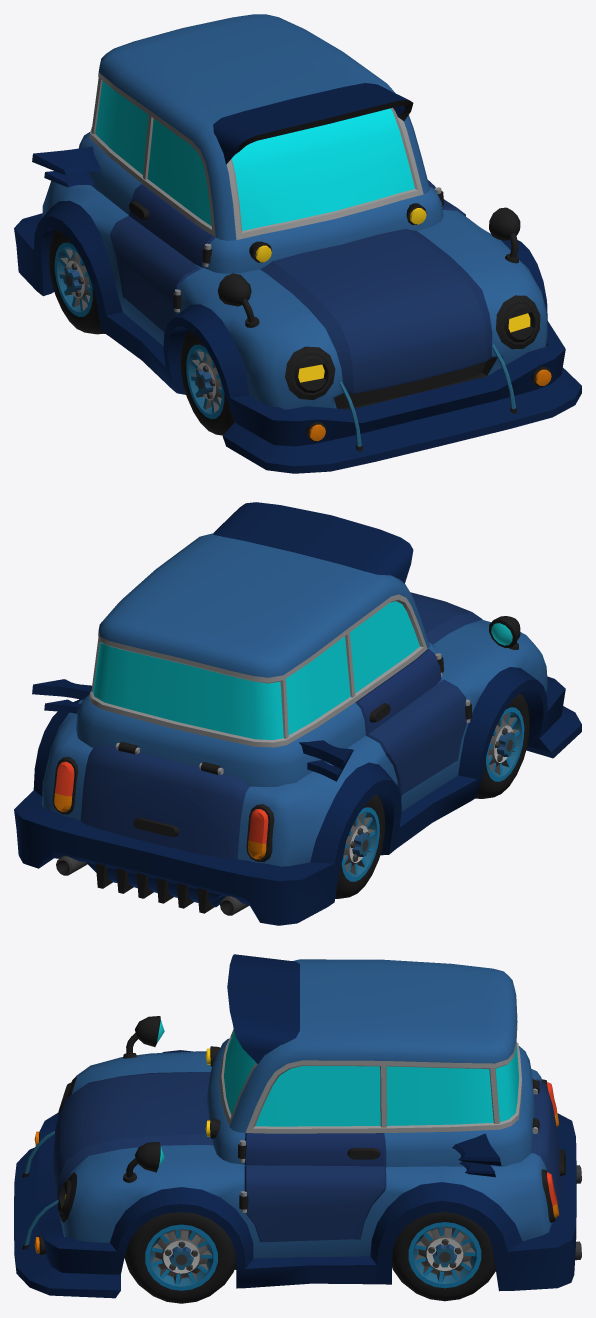
File: VEH13-B.fbx
3 views of the same model, one above another, from view 1: azimuth 30°, elevation 25°; view 2: azimuth 150°, elevation 25°; view 3: azimuth 270°, elevation 25° (orthographic). The views are drawn at different scales.
Parts seen in each view (by area): view 1: VEH13_B, V13B_Wheel_BR, V13B_Wheel_FR; view 2: VEH13_B, V13B_Wheel_FR, V13B_Wheel_BR; view 3: VEH13_B, V13B_Wheel_FL, V13B_Wheel_BL.
Part boxes in pixels (x1=…): VEH13_B: x1=14, y1=14, x2=581, y2=473; V13B_Wheel_BR: x1=49, y1=230, x2=104, y2=334; V13B_Wheel_FR: x1=180, y1=330, x2=234, y2=435; VEH13_B: x1=14, y1=502, x2=581, y2=925; V13B_Wheel_FR: x1=475, y1=693, x2=529, y2=798; V13B_Wheel_BR: x1=335, y1=794, x2=384, y2=898; VEH13_B: x1=14, y1=954, x2=581, y2=1298; V13B_Wheel_FL: x1=124, y1=1212, x2=236, y2=1303; V13B_Wheel_BL: x1=392, y1=1211, x2=495, y2=1301.
Bounding box in the file's own units: 280 × 216 × 437.
1 material, 1 textured.
